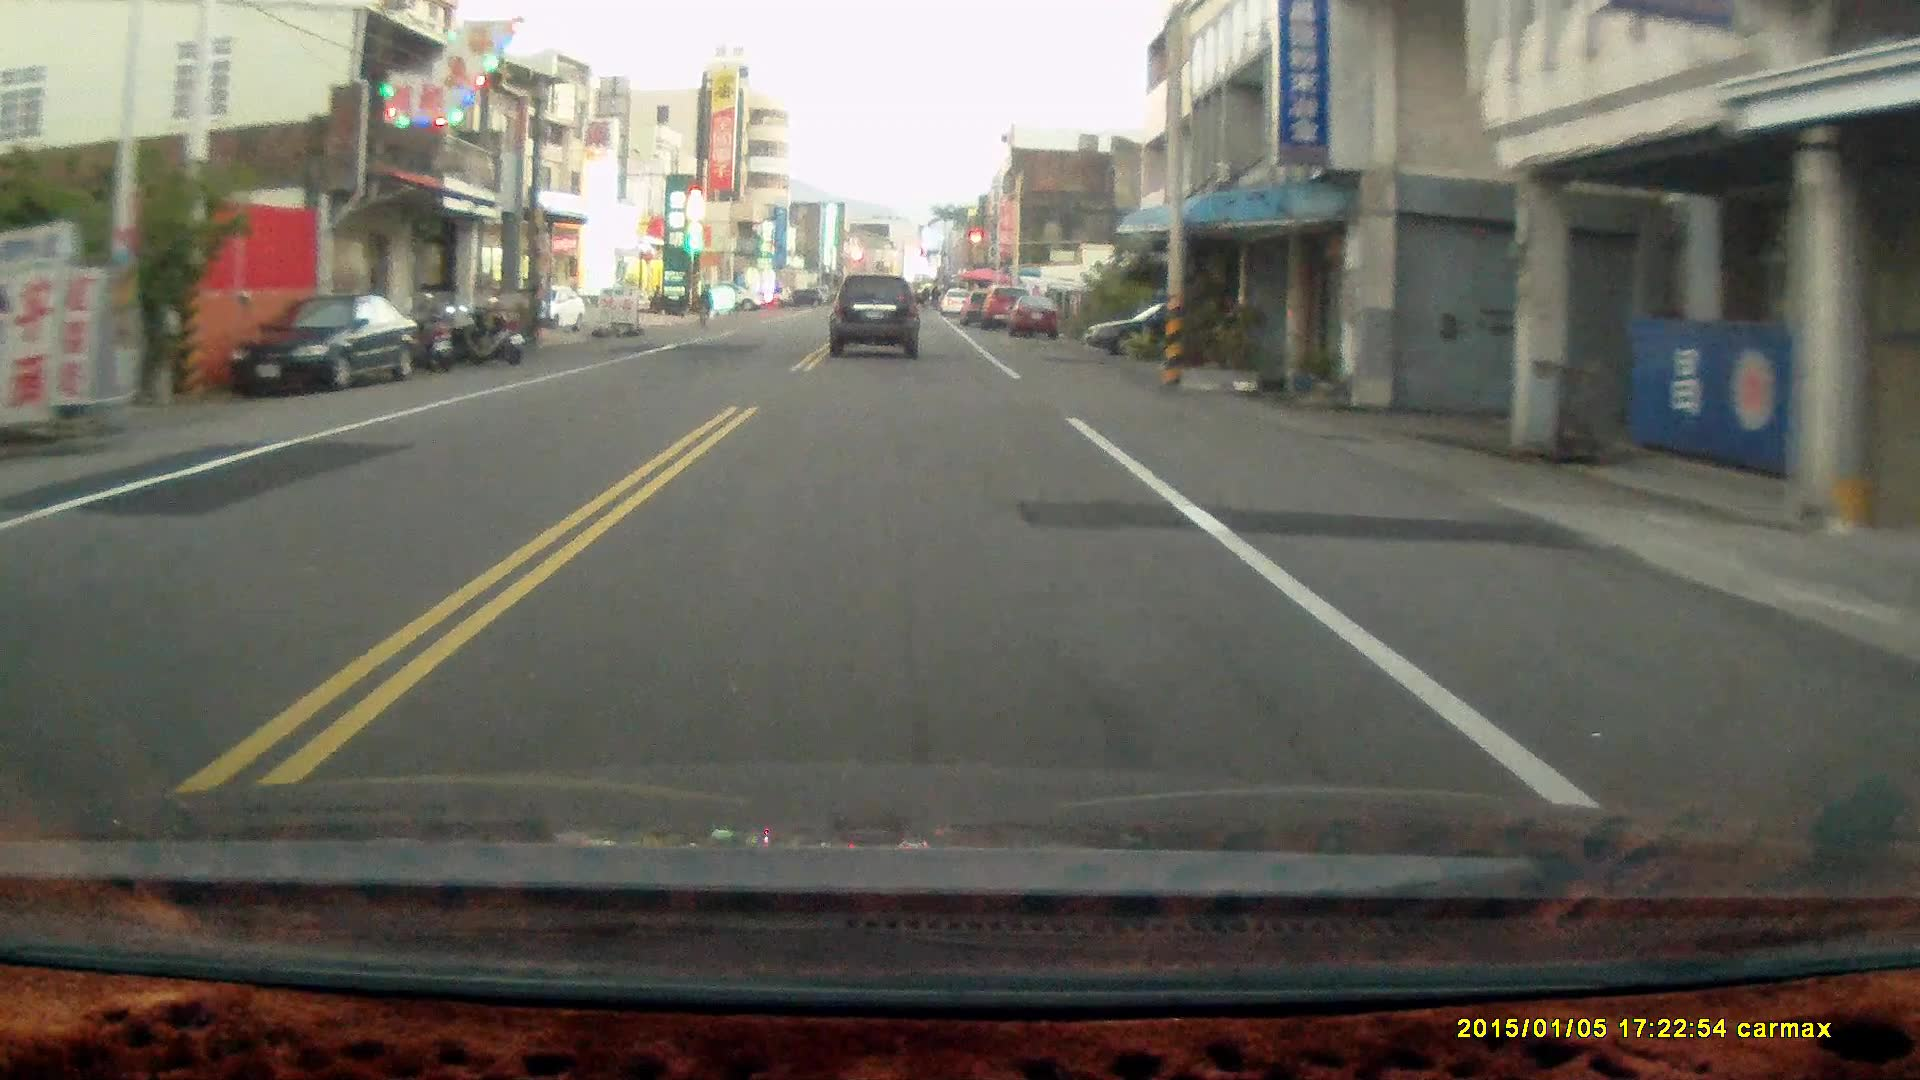rider: (690, 283, 714, 332)
vehicle: (225, 296, 419, 397), (830, 274, 922, 363)
